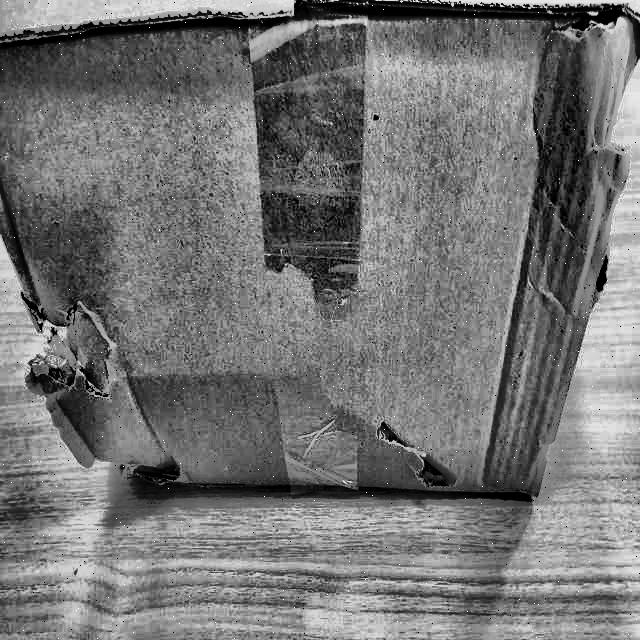box: (1, 0, 640, 524)
hole: (30, 302, 98, 416), (376, 419, 458, 487)
